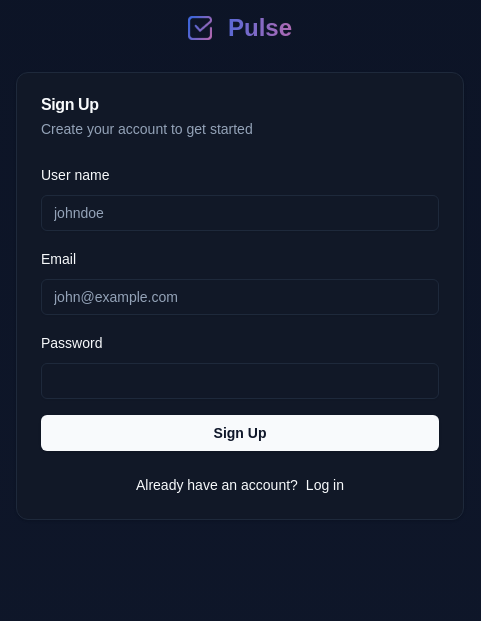
Test: User sign up page › displays validation errors when the form is submitted with invalid values
Step 1. Click the button → click(240, 433), box [41,415,439,451]
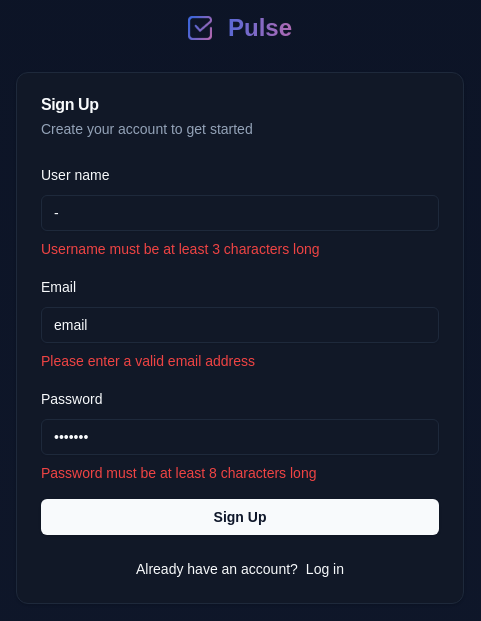
Result: the text "Username must be at least 3 characters long" is shown at [41,241,320,257]
Result: the text "Please enter a valid email address" is shown at [41,353,255,369]
Result: the text "Password must be at least 8 characters long" is shown at [41,465,316,481]
